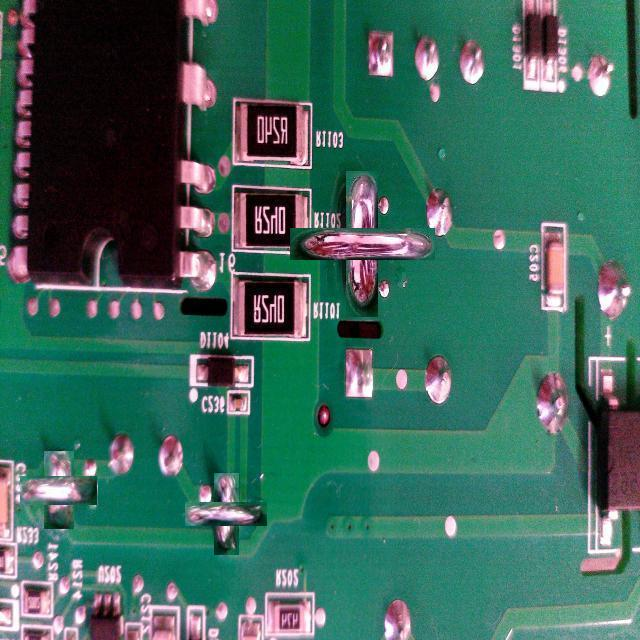Short_circuit: (318, 200, 406, 288), (32, 463, 86, 518), (200, 487, 253, 541)
